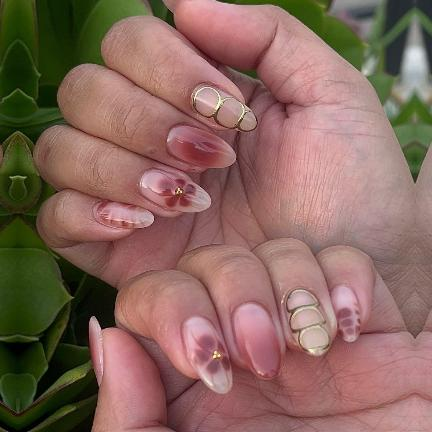Nail: (180, 316, 232, 394), (231, 303, 280, 380), (137, 169, 210, 213), (284, 288, 330, 357), (190, 84, 256, 132), (165, 125, 235, 168), (330, 285, 360, 342), (92, 201, 153, 229), (88, 316, 103, 387)
